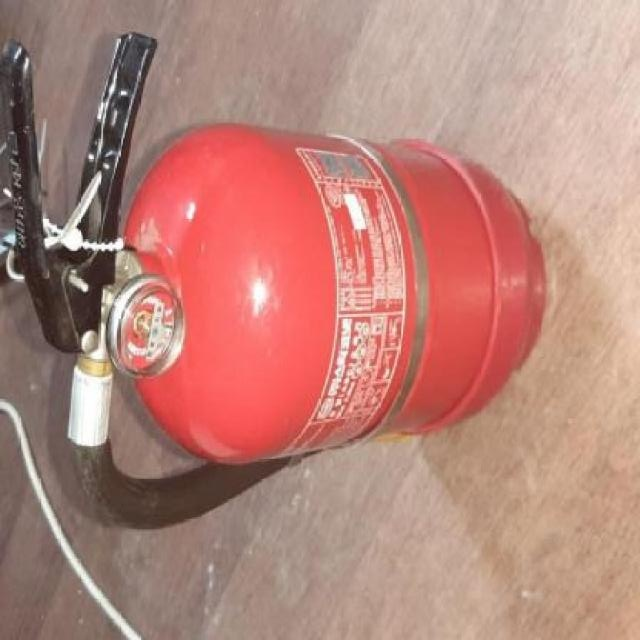fire extinguisher: (0, 33, 548, 530)
